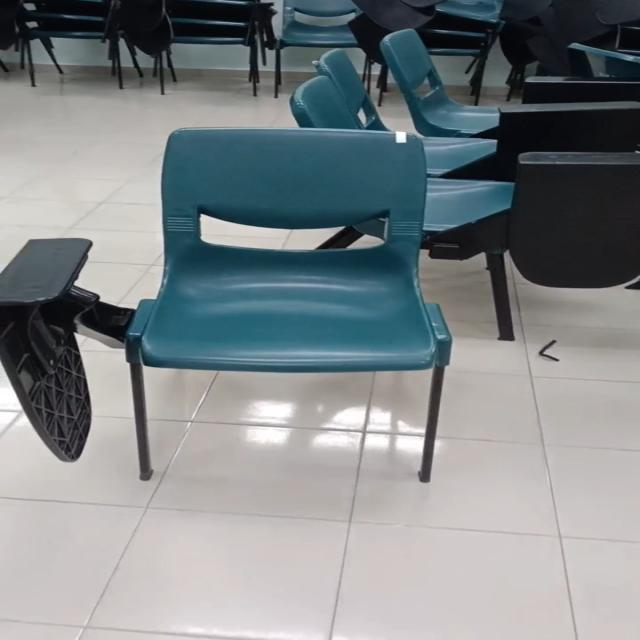sandalye: (124, 128, 452, 482), (380, 30, 499, 138), (274, 0, 359, 90)
